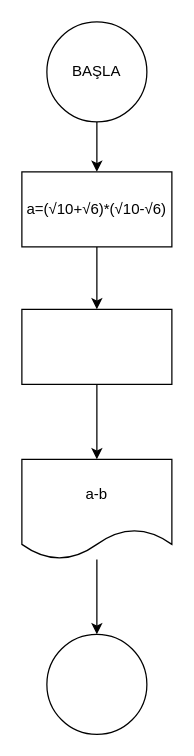
Image size: 194x756. Some labels were removed from this diagram. Here are the shapes that lost their labels. From the top down, the centre of each, then its label:
At point 96,346: "b=(√10+√6)/(√10-√6)".
At point 96,683: "DUR".
